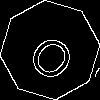O: (25, 25, 84, 85)
